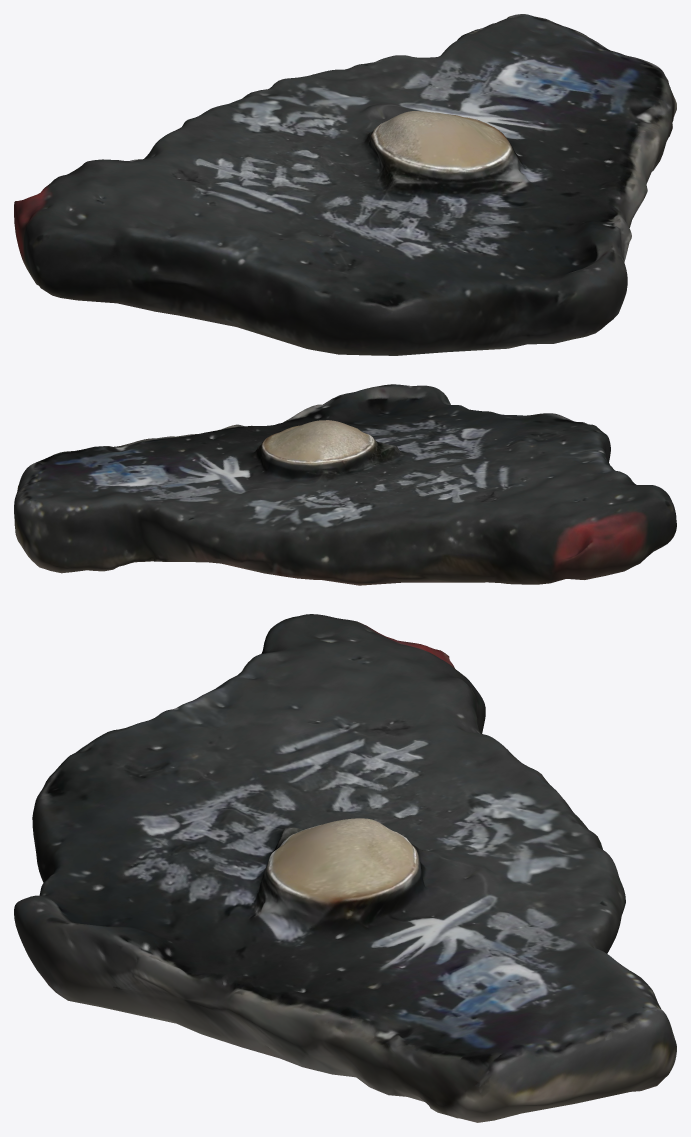
The picture shows the model from 3 angles, top to bottom: view 1: azimuth 30°, elevation 25°; view 2: azimuth 150°, elevation 25°; view 3: azimuth 270°, elevation 25°; orthographic projection. The views are drawn at different scales.
Bounding box in the file's own units: 0.7581 × 0.1413 × 0.54.
Materials: 1 (1 with a texture image).
